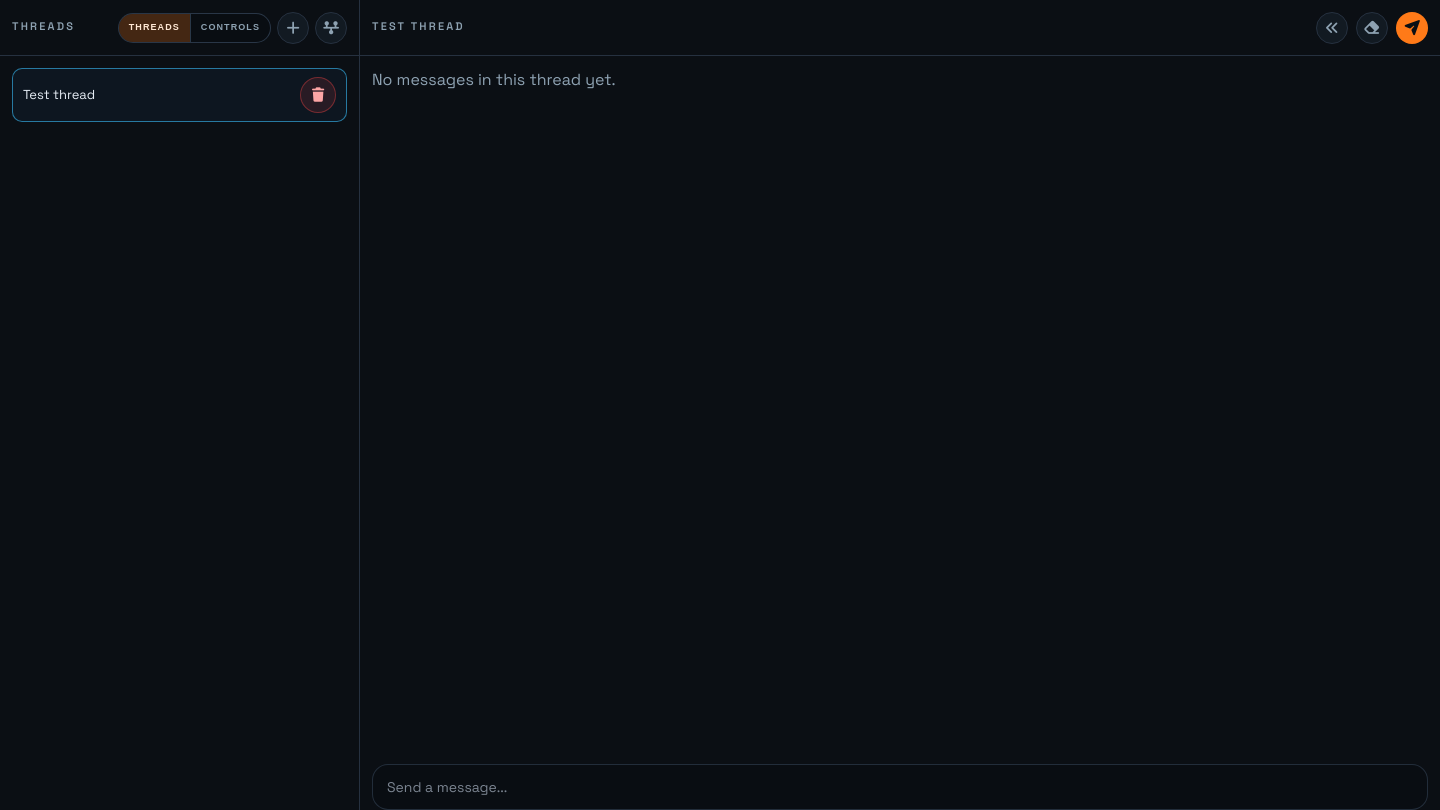
Test: ChatPage › shows optimistic user message and pending thinking bubble immediately after submit
expect the button named "send" is shown: met, box [1396,12,1428,44]
In the text box with placeholder "Send a message...": (900, 787) [372,764,1428,809], type "hello there"
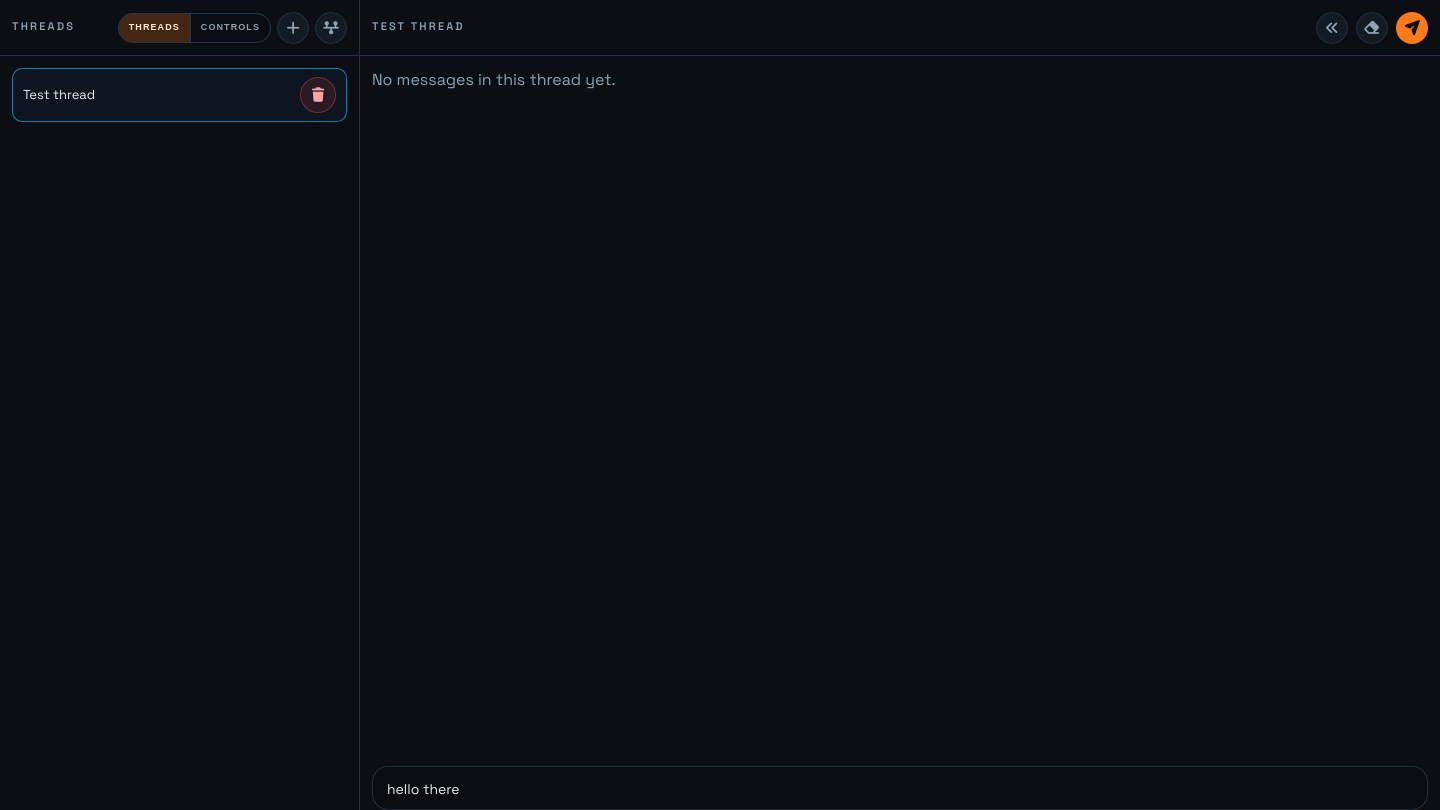
Click the button named "send": (1412, 28) [1396,12,1428,44]
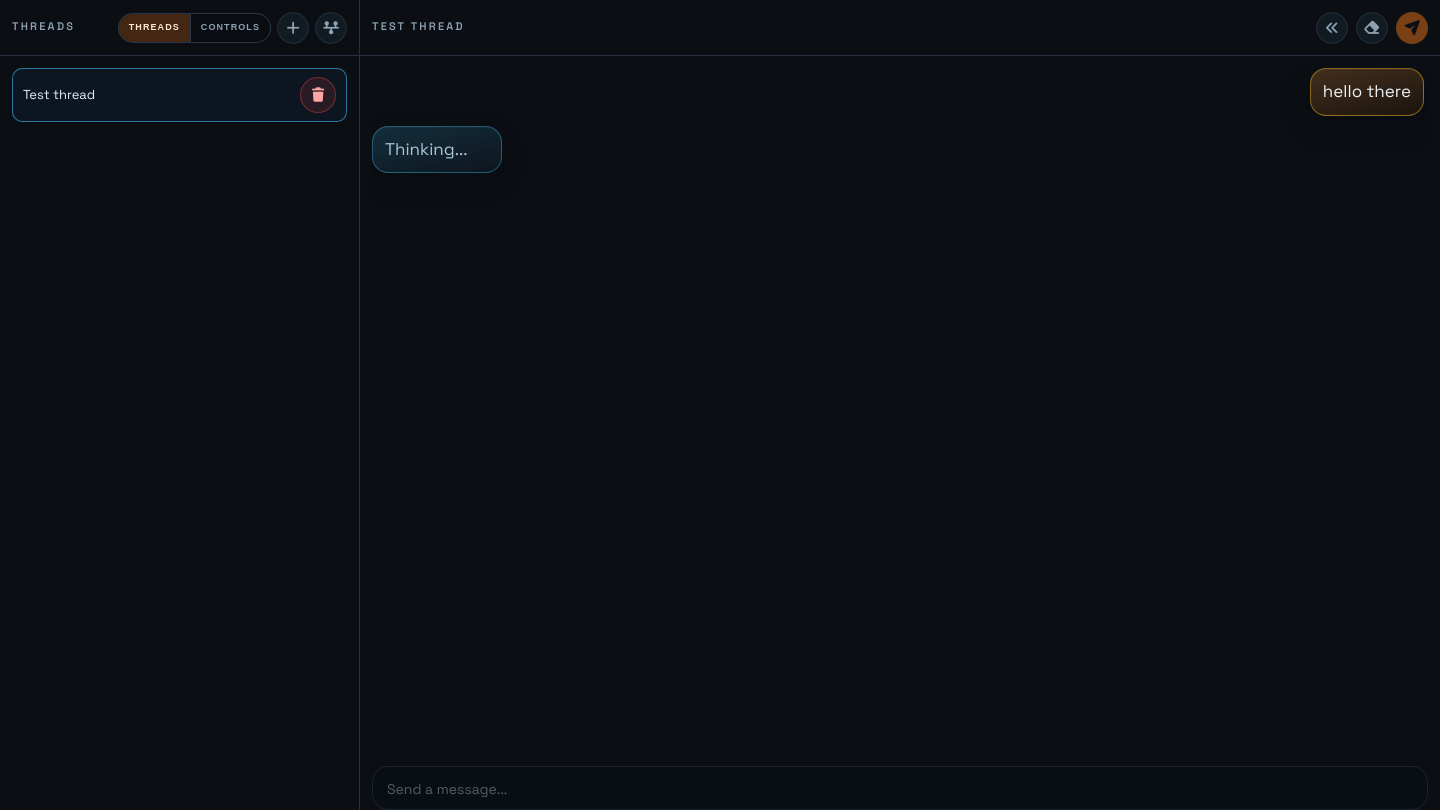
expect the text box with placeholder "Send a message..." is empty: met, box [372,766,1428,809]
expect the text "Thinking..." is shown: met, box [385,136,489,162]
